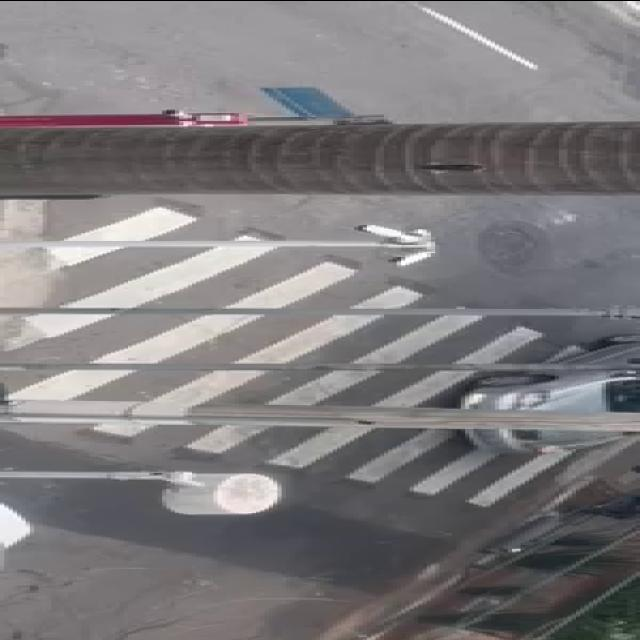car: (451, 332, 640, 456)
